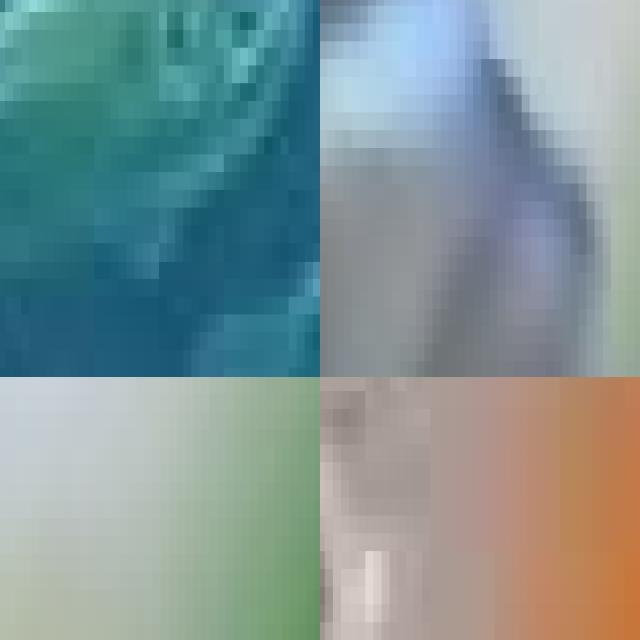fish: (0, 0, 320, 377), (320, 0, 640, 377)
